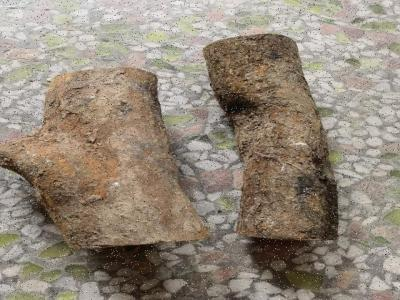Root: (0, 68, 209, 248), (204, 34, 338, 240)
